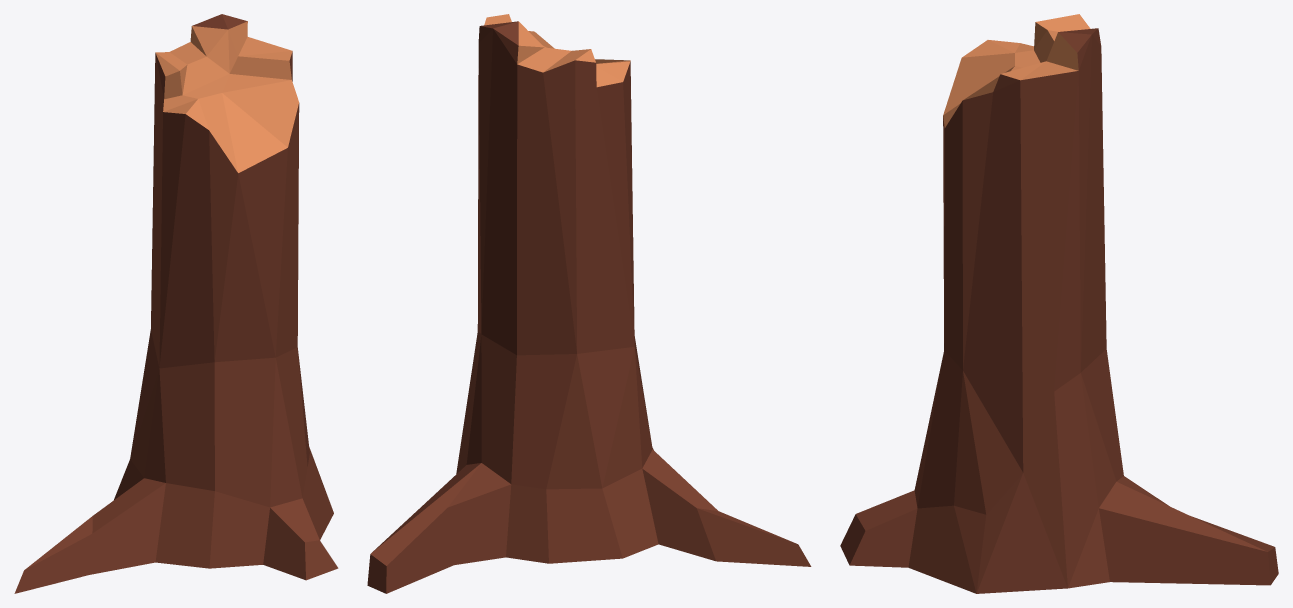
Rendered from pine_trunk_type_8_LOD1.fbx.
The picture shows the model from 3 angles, left to right: view 1: azimuth 30°, elevation 25°; view 2: azimuth 150°, elevation 25°; view 3: azimuth 270°, elevation 25°; orthographic projection. The views are drawn at different scales.
Visible parts, largest first — view 1: pt_type_8; view 2: pt_type_8; view 3: pt_type_8.
Part boxes in pixels (x1=…): pt_type_8: x1=14, y1=14, x2=338, y2=593; pt_type_8: x1=367, y1=14, x2=811, y2=593; pt_type_8: x1=840, y1=14, x2=1278, y2=593.
Size of the model in its own units: 263 by 386 by 287.
